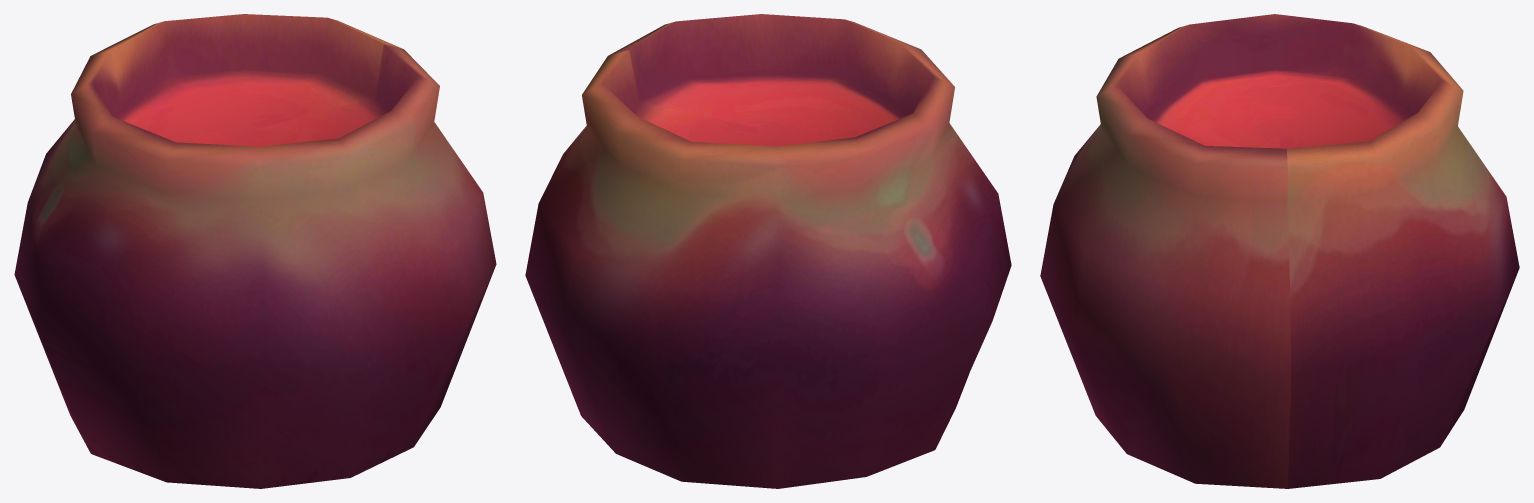
File: pot.fbx
The picture shows the model from 3 angles, left to right: view 1: azimuth 30°, elevation 25°; view 2: azimuth 150°, elevation 25°; view 3: azimuth 270°, elevation 25°; orthographic projection.
Visible parts, largest first — view 1: pot; view 2: pot; view 3: pot.
Boxes of the visible parts, x1,y1,x2,y2 form: pot: (14,14,496,488); pot: (525,14,1011,488); pot: (1040,14,1519,488).
Bounding box in the file's own units: 2.96 × 2.17 × 2.86.
